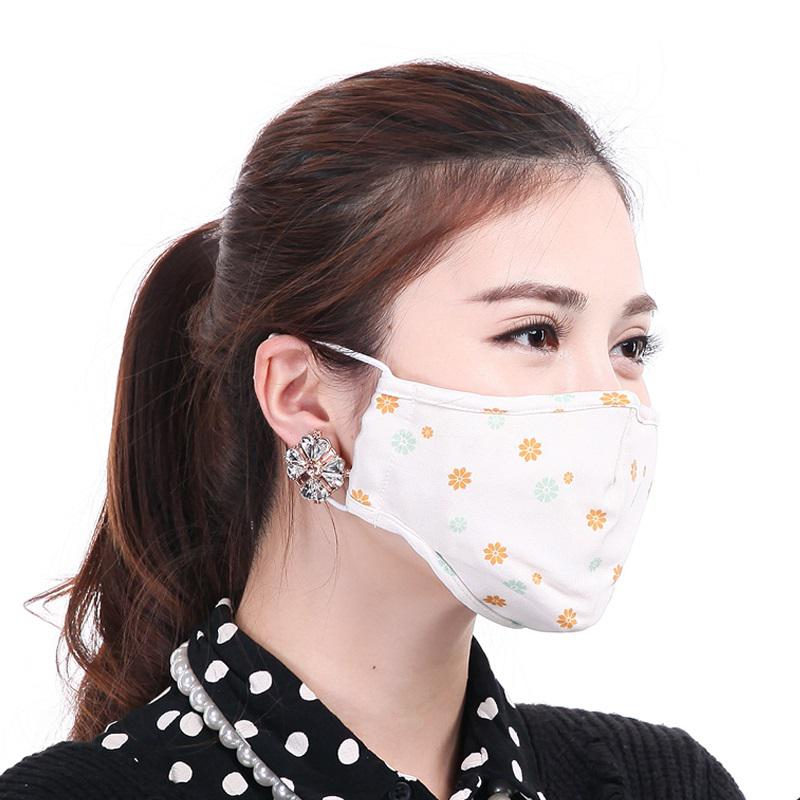OK: (306, 269, 668, 631)
